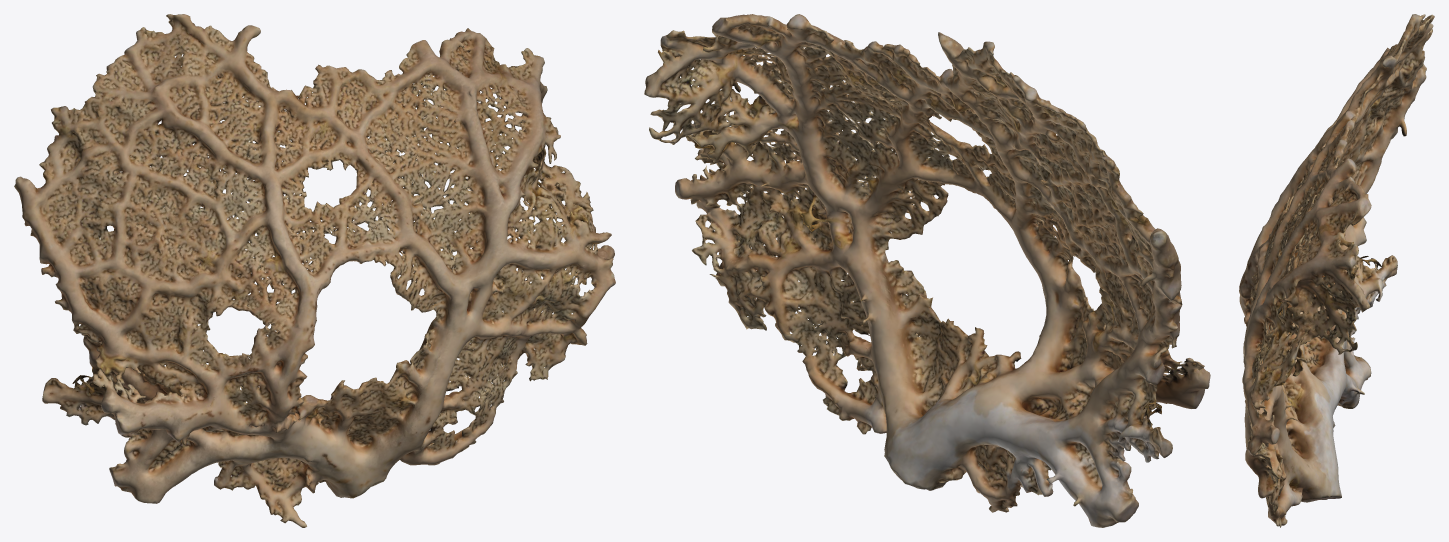
The model's file is usnm_1122454-100k-2048_std_draco.glb.
3 views of the same model, side by side, from view 1: azimuth 30°, elevation 25°; view 2: azimuth 150°, elevation 25°; view 3: azimuth 270°, elevation 25° (orthographic). The views are drawn at different scales.
Size of the model in its own units: 0.2446 by 0.2158 by 0.0837.
Materials: 1 (1 with a texture image).
